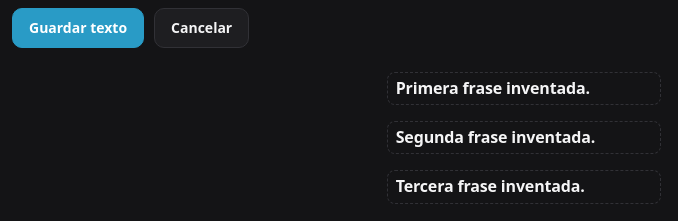
Scenario: EditorTextos › otros errores se dicen sin Recargar
What coordinates should you click on to do the following:
click the button "Guardar texto"
I would click on:
 (78, 28)
Its box is [12, 8, 144, 48].
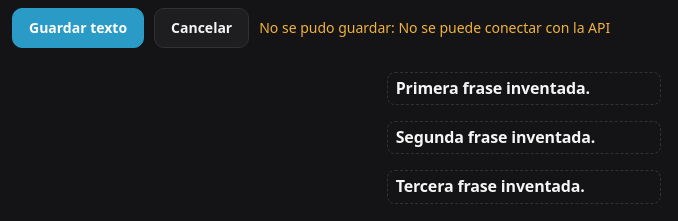
Expected: the text "No se pudo guardar: No se puede conectar con la API" is shown, [259, 18, 610, 38]
